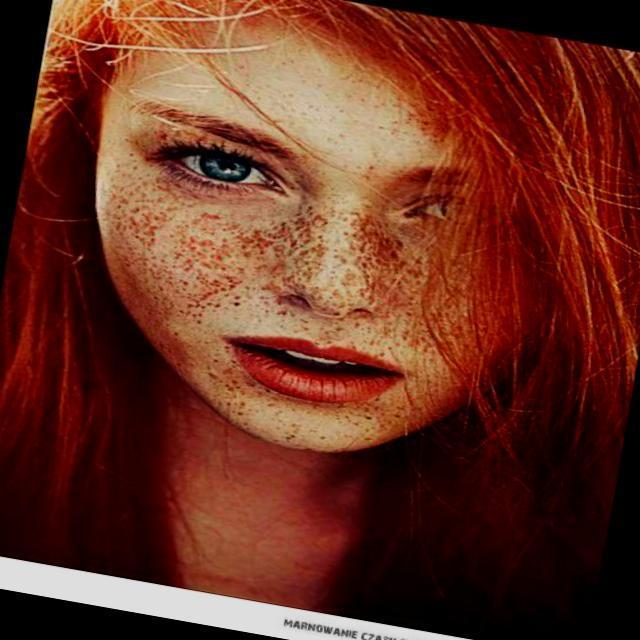freckle: (80, 160, 451, 352), (148, 311, 326, 454)
